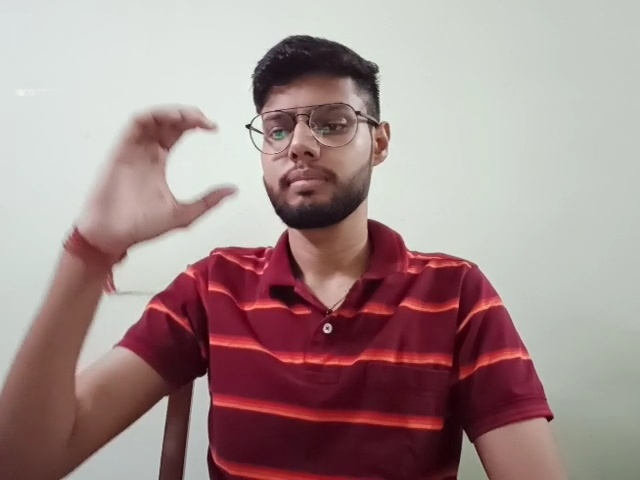C: (77, 105, 240, 261)
